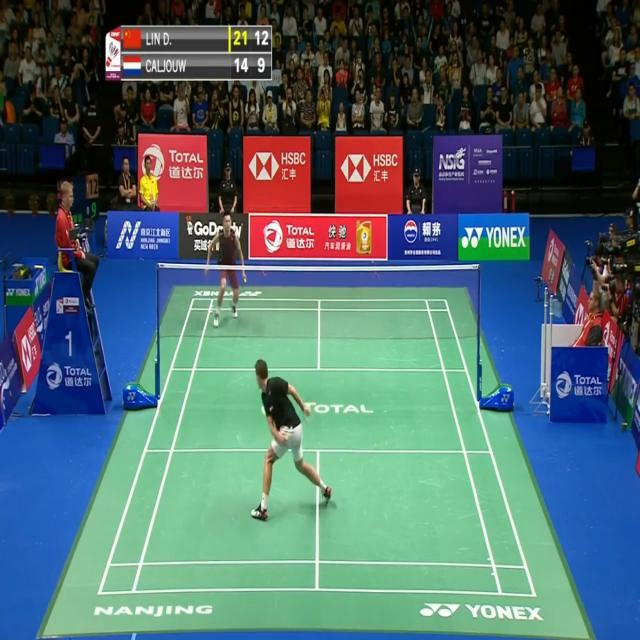Player1: (248, 349, 336, 529)
Player2: (201, 201, 249, 336)
